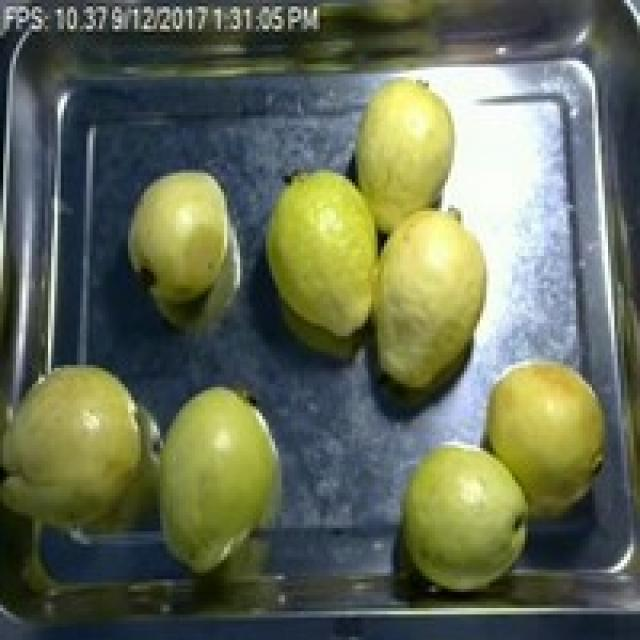Fruit: (0, 352, 157, 576), (358, 195, 509, 419), (140, 374, 298, 580), (474, 342, 620, 532), (384, 429, 541, 605), (256, 157, 390, 355), (342, 61, 473, 237), (122, 160, 243, 314)
